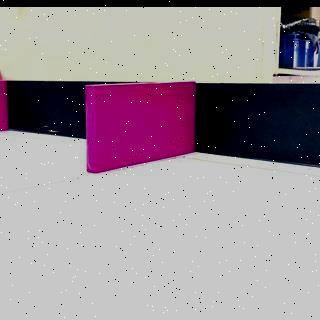xparking: (86, 86, 196, 168), (2, 81, 6, 127)
